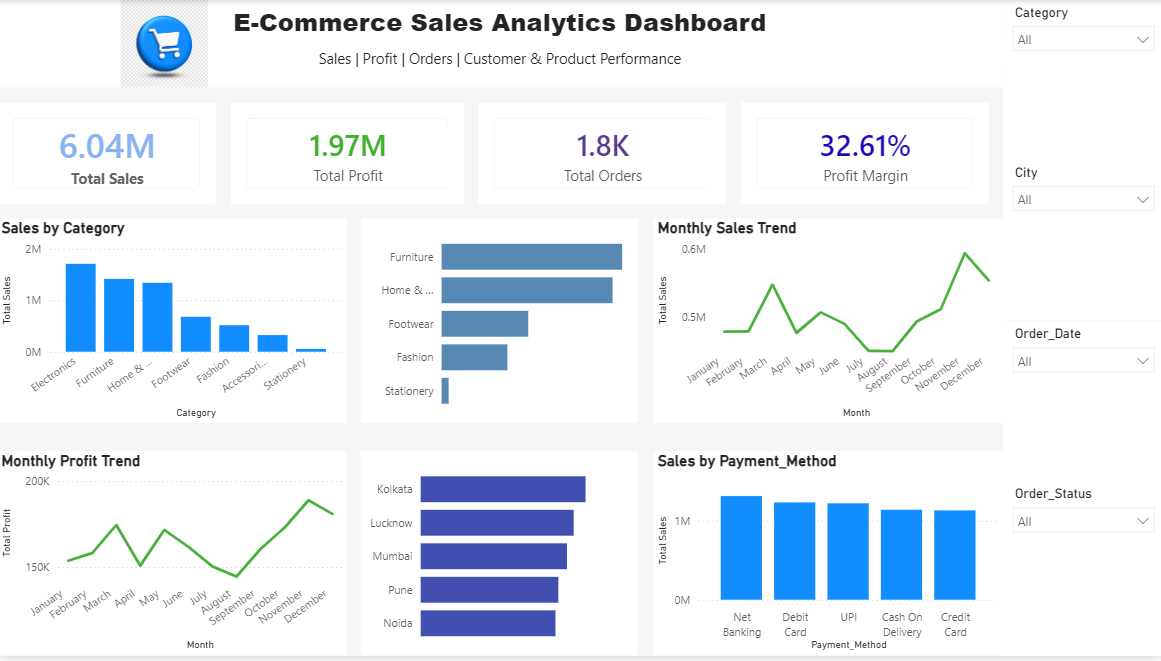

The page's visual inventory and layout, read from the dashboard file:
{"tool":"powerbi","page":{"name":"Page 1","canvas":[1280,720],"ordinal":0},"visuals":[{"type":"actionButton","box":[0,0,100,40],"z":0},{"type":"textbox","box":[0,0,1104,64],"z":1000},{"type":"textbox","box":[0,48,1104,48],"z":2000},{"type":"cardVisual","fields":{"Data":["Count(A.Order_ID)"]},"box":[528,112,272,112],"z":5000},{"type":"cardVisual","fields":{"Data":["A.Total Profit"]},"box":[256,112,256,112],"z":6000},{"type":"cardVisual","fields":{"Data":["A.Total Sales"]},"box":[0,112,240,112],"z":7000},{"type":"cardVisual","fields":{"Data":["A.Profit Margin"]},"box":[816,112,272,112],"z":8000},{"type":"slicer","fields":{"Values":["A.Category"]},"box":[1104,0,176,176],"z":9000},{"type":"slicer","fields":{"Values":["A.City"]},"box":[1104,176,176,176],"z":9001},{"type":"slicer","fields":{"Values":["A.Order_Date"]},"box":[1104,352,176,176],"z":9002},{"type":"slicer","fields":{"Values":["A.Order_Status"]},"box":[1104,528,176,192],"z":9003},{"type":"clusteredColumnChart","title":"Sales by Category","fields":{"Y":["A.Total Sales"],"Category":["A.Category"]},"box":[0,240,384,224],"z":9004},{"type":"lineChart","title":"Monthly Sales Trend","fields":{"Y":["A.Total Sales"],"Category":["A.Order_Date.Variation.Date Hierarchy.Month"]},"box":[720,240,384,224],"z":9005},{"type":"clusteredBarChart","fields":{"Category":["A.Category"],"Y":["A.Total Sales"]},"box":[400,240,304,224],"z":9006},{"type":"lineChart","title":"Monthly Profit Trend","fields":{"Category":["A.Order_Date.Variation.Date Hierarchy.Month"],"Y":["A.Total Profit"]},"box":[0,496,384,224],"z":9007},{"type":"clusteredBarChart","fields":{"Category":["A.City"],"Y":["A.Total Sales"]},"box":[400,496,304,224],"z":9008},{"type":"clusteredColumnChart","fields":{"Category":["A.Payment_Method"],"Y":["A.Total Sales"]},"box":[720,496,384,224],"z":9009},{"type":"image","box":[32,0,304,96],"z":9010}]}

Visuals, with their boxes in screenshot pixels (x1, y1, x2, y2), scaled from the page's 1280x720 canvas onto the 1161x661 screenshot:
actionButton: [0, 0, 91, 37]
textbox: [0, 0, 1001, 59]
textbox: [0, 44, 1001, 88]
cardVisual - Count(A.Order_ID): [479, 103, 726, 206]
cardVisual - A.Total Profit: [232, 103, 464, 206]
cardVisual - A.Total Sales: [0, 103, 218, 206]
cardVisual - A.Profit Margin: [740, 103, 987, 206]
slicer - A.Category: [1001, 0, 1160, 162]
slicer - A.City: [1001, 162, 1160, 323]
slicer - A.Order_Date: [1001, 323, 1160, 485]
slicer - A.Order_Status: [1001, 485, 1160, 660]
"Sales by Category" clusteredColumnChart: [0, 220, 348, 426]
"Monthly Sales Trend" lineChart: [653, 220, 1001, 426]
clusteredBarChart - A.Category x A.Total Sales: [363, 220, 639, 426]
"Monthly Profit Trend" lineChart: [0, 455, 348, 660]
clusteredBarChart - A.City x A.Total Sales: [363, 455, 639, 660]
clusteredColumnChart - A.Payment_Method x A.Total Sales: [653, 455, 1001, 660]
image: [29, 0, 305, 88]
